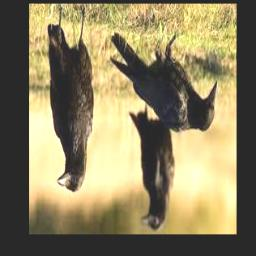Crow: (110, 32, 218, 133), (48, 5, 94, 193), (129, 101, 174, 231)
